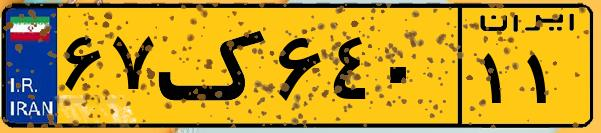0: (385, 28, 445, 110)
1: (475, 38, 525, 113), (525, 38, 570, 115)
4: (330, 28, 385, 110)
6: (270, 28, 330, 110), (57, 26, 110, 100)
7: (110, 28, 158, 98)
ک: (158, 12, 270, 120)
